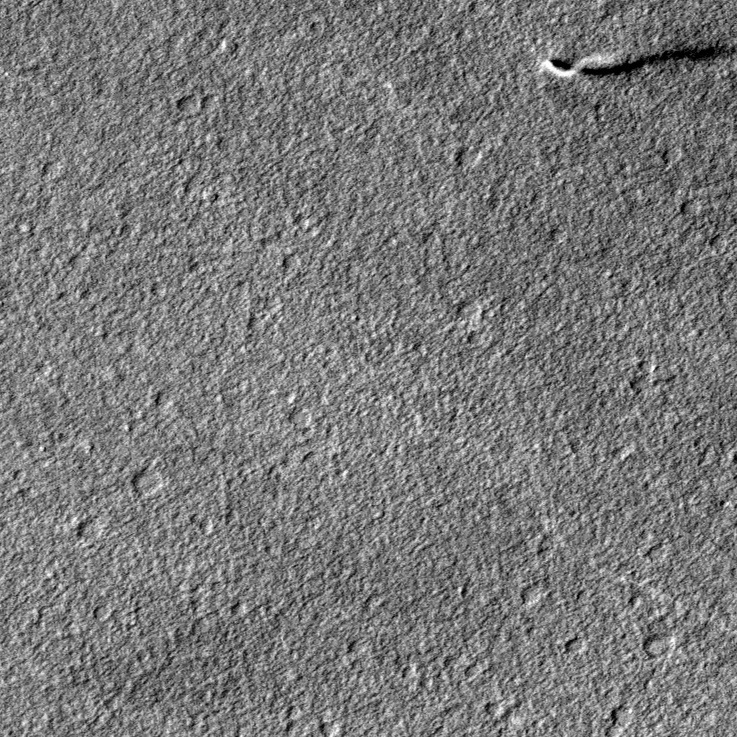dust_devil: (536, 39, 737, 81)
